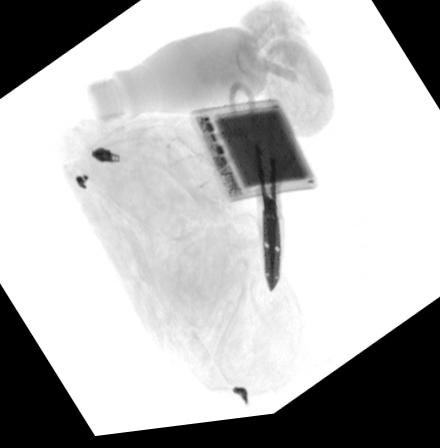Powerbank: (188, 103, 317, 209)
Scissors: (227, 84, 300, 300)
